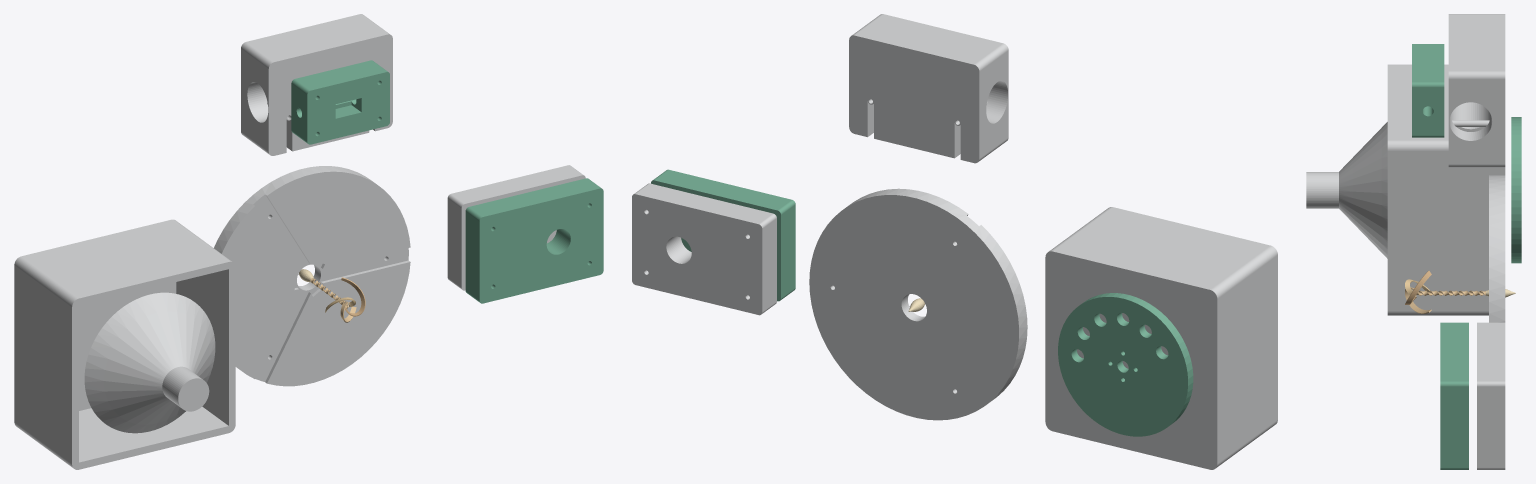
The model's file is assembly_station.glb.
3 views of the same model, side by side, from view 1: azimuth 30°, elevation 25°; view 2: azimuth 150°, elevation 25°; view 3: azimuth 270°, elevation 25° (orthographic). The views are drawn at different scales.
Parts seen in each view (by area): view 1: S01_seed_hopper, S04_three_tail_assembly_nest, S08_tip_mold_half_B, S05_10ml_syringe_holder, S06_syringe_plunger_carriage, S07_tip_mold_half_A; view 2: S04_three_tail_assembly_nest, S01_seed_hopper, S05_10ml_syringe_holder, S07_tip_mold_half_A, S02_seed_singulator_disk_6mm, S08_tip_mold_half_B; view 3: S01_seed_hopper, S05_10ml_syringe_holder, S08_tip_mold_half_B, S07_tip_mold_half_A, S06_syringe_plunger_carriage, S04_three_tail_assembly_nest, S02_seed_singulator_disk_6mm, carrier_body.
Boxes of the visible parts, bbox=[...] form: S01_seed_hopper: bbox=[14, 219, 235, 469]; S04_three_tail_assembly_nest: bbox=[214, 166, 410, 386]; S08_tip_mold_half_B: bbox=[465, 178, 603, 303]; S05_10ml_syringe_holder: bbox=[241, 14, 392, 155]; S06_syringe_plunger_carriage: bbox=[291, 60, 389, 144]; S07_tip_mold_half_A: bbox=[447, 165, 585, 290]; S04_three_tail_assembly_nest: bbox=[809, 188, 1027, 420]; S01_seed_hopper: bbox=[1045, 207, 1277, 469]; S05_10ml_syringe_holder: bbox=[849, 14, 1008, 163]; S07_tip_mold_half_A: bbox=[632, 183, 776, 315]; S02_seed_singulator_disk_6mm: bbox=[1058, 293, 1193, 436]; S08_tip_mold_half_B: bbox=[651, 169, 795, 301]; S01_seed_hopper: bbox=[1306, 64, 1505, 315]; S05_10ml_syringe_holder: bbox=[1448, 14, 1505, 167]; S08_tip_mold_half_B: bbox=[1440, 322, 1468, 469]; S07_tip_mold_half_A: bbox=[1477, 322, 1505, 469]; S06_syringe_plunger_carriage: bbox=[1412, 44, 1444, 137]; S04_three_tail_assembly_nest: bbox=[1489, 175, 1505, 322]; S02_seed_singulator_disk_6mm: bbox=[1511, 117, 1521, 263]; carrier_body: bbox=[1416, 290, 1485, 295].
Size of the model in its own units: 324 by 194 by 106.
